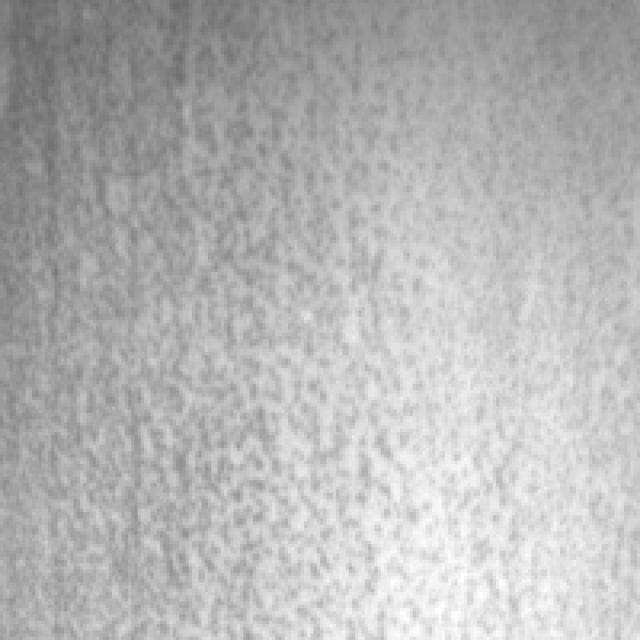pitted_surface: (0, 0, 627, 627)
